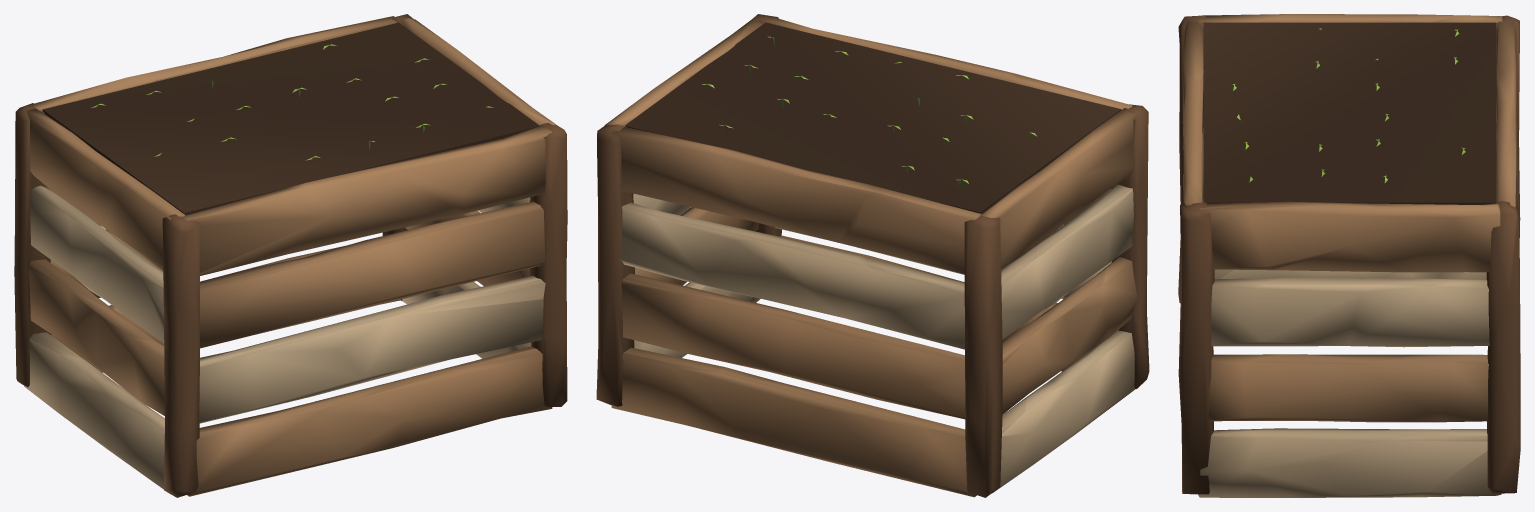
Rendered from canopy_planter_box_lod2.glb.
3 views of the same model, side by side, from view 1: azimuth 30°, elevation 25°; view 2: azimuth 150°, elevation 25°; view 3: azimuth 270°, elevation 25° (orthographic). The views are drawn at different scales.
Parts seen in each view (by area): view 1: canopy_planter_box.001; view 2: canopy_planter_box.001; view 3: canopy_planter_box.001.
Boxes of the visible parts, box(x1,y1,x2,y2) form: canopy_planter_box.001: box(14, 14, 567, 497); canopy_planter_box.001: box(596, 14, 1149, 497); canopy_planter_box.001: box(1178, 14, 1520, 497).
Bounding box in the file's own units: 14.31 × 9.99 × 10.29.
